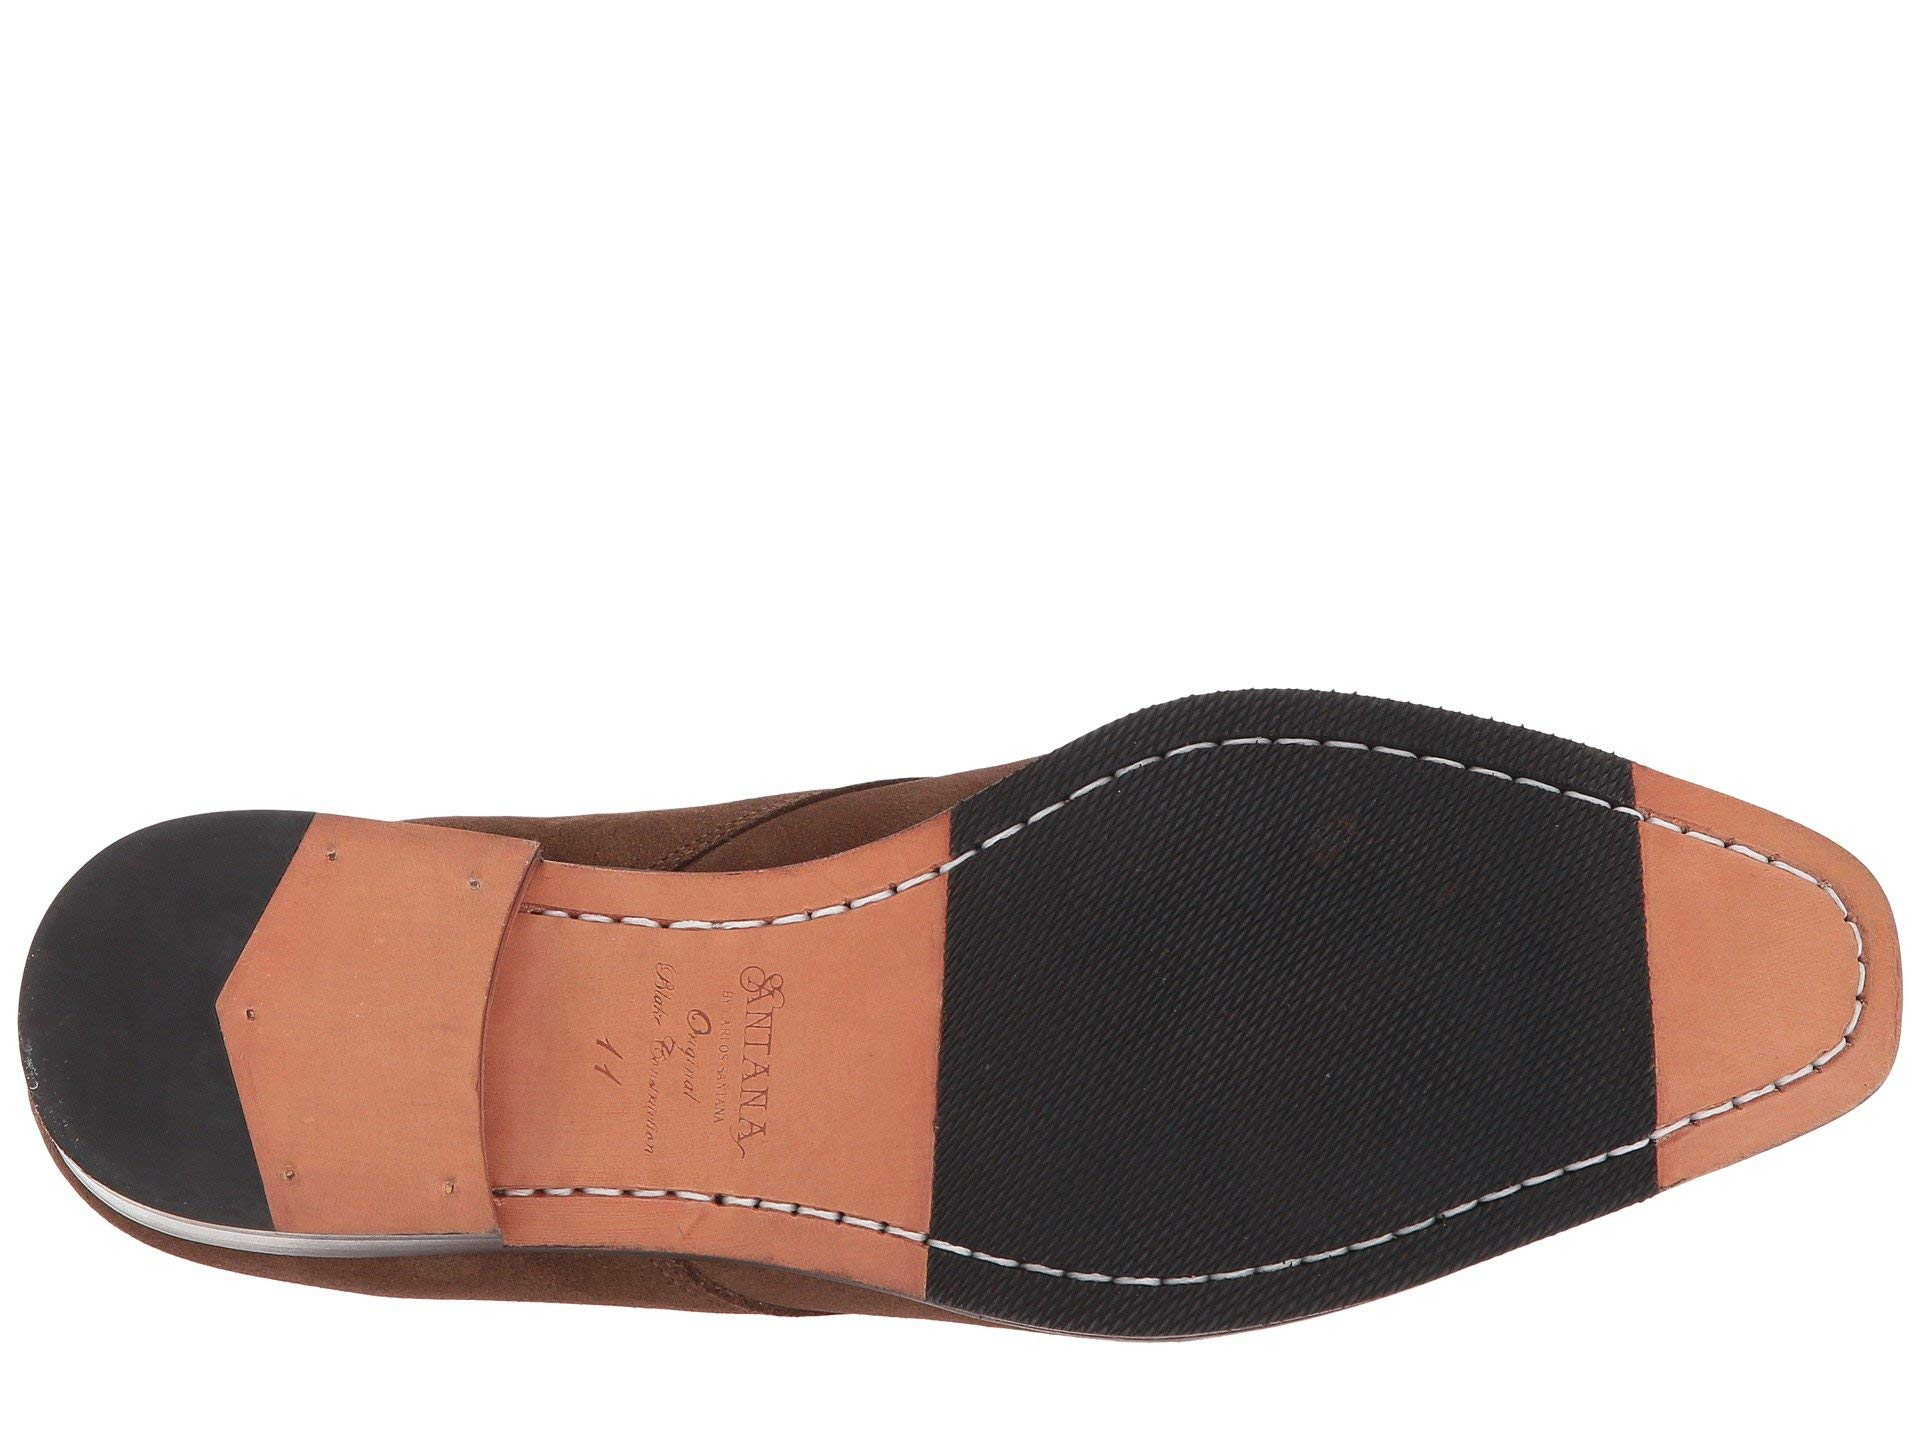circle: (317, 826, 500, 1234)
line: (1067, 731, 1568, 1230), (317, 826, 500, 1234), (553, 929, 857, 1171)
quad: (1067, 731, 1568, 1230)
text: (553, 929, 857, 1171)
